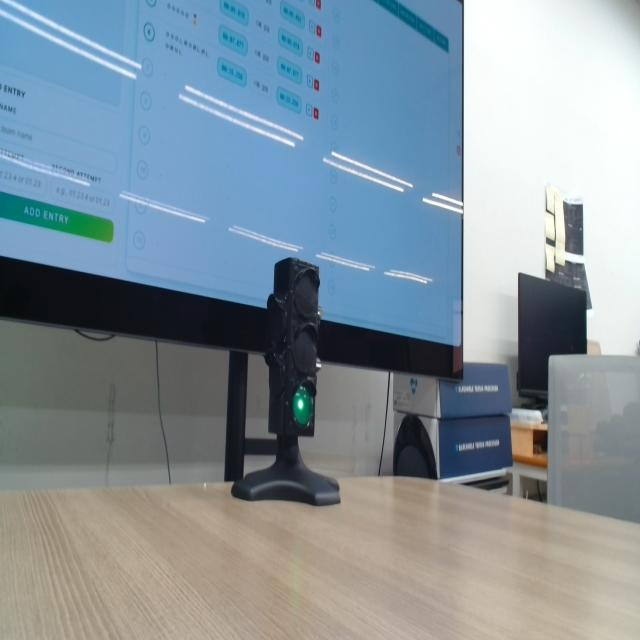green_light: (293, 386, 313, 428)
